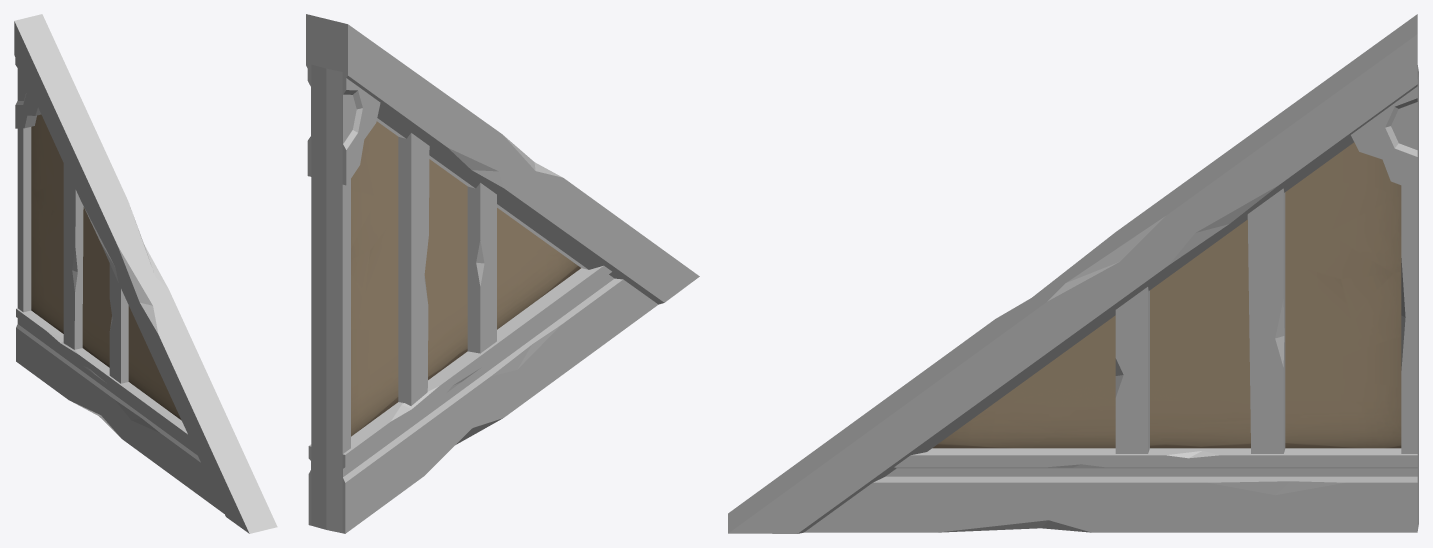
File: SM_Bld_Roof_End_04_Alt_01.fbx
3 views of the same model, side by side, from view 1: azimuth 30°, elevation 25°; view 2: azimuth 150°, elevation 25°; view 3: azimuth 270°, elevation 25° (orthographic). The views are drawn at different scales.
Parts seen in each view (by area): view 1: SM_Bld_Roof_End_04_Alt_01; view 2: SM_Bld_Roof_End_04_Alt_01; view 3: SM_Bld_Roof_End_04_Alt_01.
Boxes of the visible parts, box(x1,y1,x2,y2) form: SM_Bld_Roof_End_04_Alt_01: box(14, 14, 277, 533); SM_Bld_Roof_End_04_Alt_01: box(306, 14, 699, 533); SM_Bld_Roof_End_04_Alt_01: box(728, 14, 1418, 533).
Bounding box in the file's own units: 34.43 × 400 × 501.
